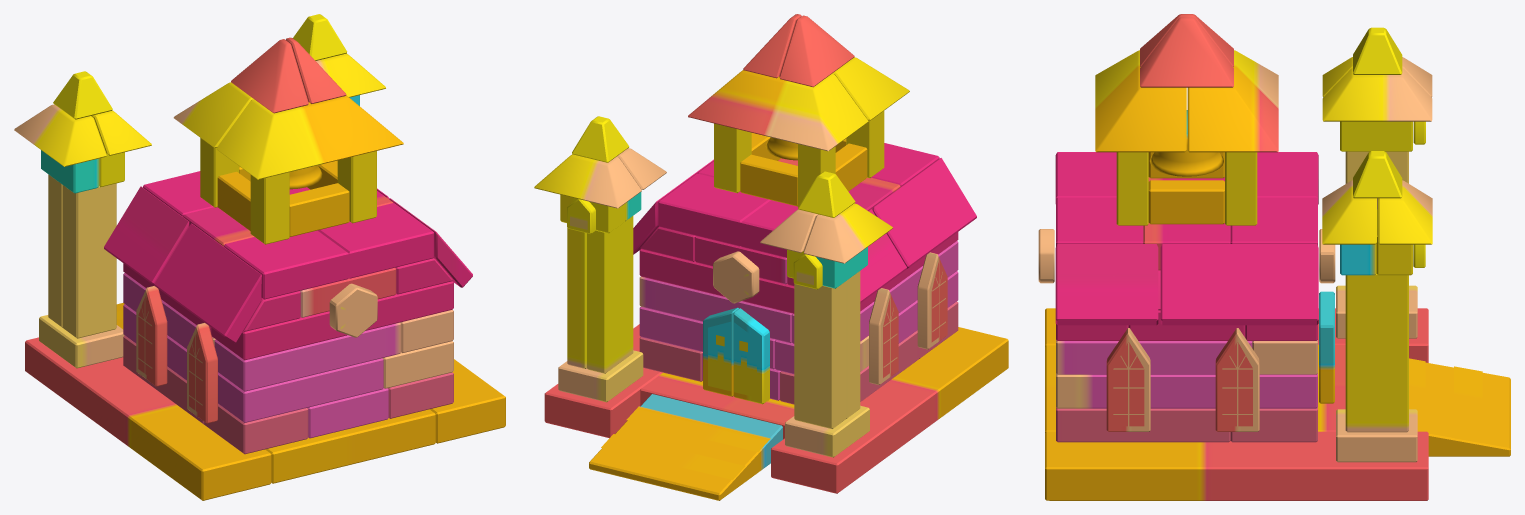
File: level_167.fbx
The picture shows the model from 3 angles, left to right: view 1: azimuth 30°, elevation 25°; view 2: azimuth 150°, elevation 25°; view 3: azimuth 270°, elevation 25°; orthographic projection. The views are drawn at different scales.
Parts seen in each view (by area): view 1: Cube_L4_33, Cube_L1_12.001, Cube_L2_15.001, Cube_L3_14, Cube_L4_16, Cube_L4_21, Cube_L4_23, Cube_L3_11, Cube_L3_4, Cube_L3_13, Cube_L4, Cube_L2_2.001 (+36 smaller); view 2: Cube_L4_33, Cube_L4_20, Cube_L1_11.001, Cube_L2_16, Cube_L2_10.001, Cube_L3_14, Cube_L3_5, Cube_L4, Cube_L4_12, Cube_L2_9.001, Cube_L2_2.001, Cube_L1_6.001 (+41 smaller); view 3: Cube_L4, Cube_L3_3.001, Cube_L2_3.001, Cube_L3_2.001, Cube_L4_20, Cube_L1_11.001, Cube_L1_12.001, Cube_L2_1.001, Cube_L4_2, Cube_L1_3.001, Cube_L4_1, Cube_L3.001 (+36 smaller).
Boxes of the visible parts, box(x1,y1,x2,y2) form: Cube_L4_33: box(25, 337, 271, 500); Cube_L1_12.001: box(216, 95, 403, 179); Cube_L2_15.001: box(63, 183, 116, 338); Cube_L3_14: box(154, 223, 261, 343); Cube_L4_16: box(265, 409, 435, 483); Cube_L4_21: box(214, 322, 401, 391); Cube_L4_23: box(218, 358, 383, 422); Cube_L3_11: box(224, 230, 349, 299); Cube_L3_4: box(317, 203, 434, 278); Cube_L3_13: box(104, 186, 189, 285); Cube_L4: box(430, 359, 505, 443); Cube_L2_2.001: box(14, 104, 106, 166); Cube_L4_33: box(771, 327, 1008, 493); Cube_L4_20: box(589, 394, 782, 500); Cube_L1_11.001: box(688, 70, 868, 151); Cube_L2_16: box(794, 281, 846, 428); Cube_L2_10.001: box(587, 216, 633, 373); Cube_L3_14: box(873, 158, 976, 268); Cube_L3_5: box(658, 173, 770, 246); Cube_L4: box(544, 324, 662, 438); Cube_L4_12: box(639, 276, 792, 343); Cube_L2_9.001: box(534, 154, 641, 208); Cube_L2_2.001: box(803, 203, 892, 263); Cube_L1_6.001: box(779, 15, 854, 87); Cube_L4: box(1045, 431, 1428, 500); Cube_L3_3.001: box(1160, 244, 1318, 325); Cube_L2_3.001: box(1345, 274, 1408, 432); Cube_L3_2.001: box(1055, 244, 1158, 325); Cube_L4_20: box(1409, 358, 1510, 456); Cube_L1_11.001: box(1187, 50, 1278, 152); Cube_L1_12.001: box(1095, 50, 1186, 152); Cube_L2_1.001: box(1322, 68, 1432, 121); Cube_L4_2: box(1056, 407, 1230, 442); Cube_L1_3.001: box(1140, 17, 1233, 87); Cube_L4_1: box(1056, 340, 1252, 374); Cube_L3.001: box(1215, 328, 1259, 431).
Bounding box in the file's own units: 15.15 × 16.89 × 17.89.
